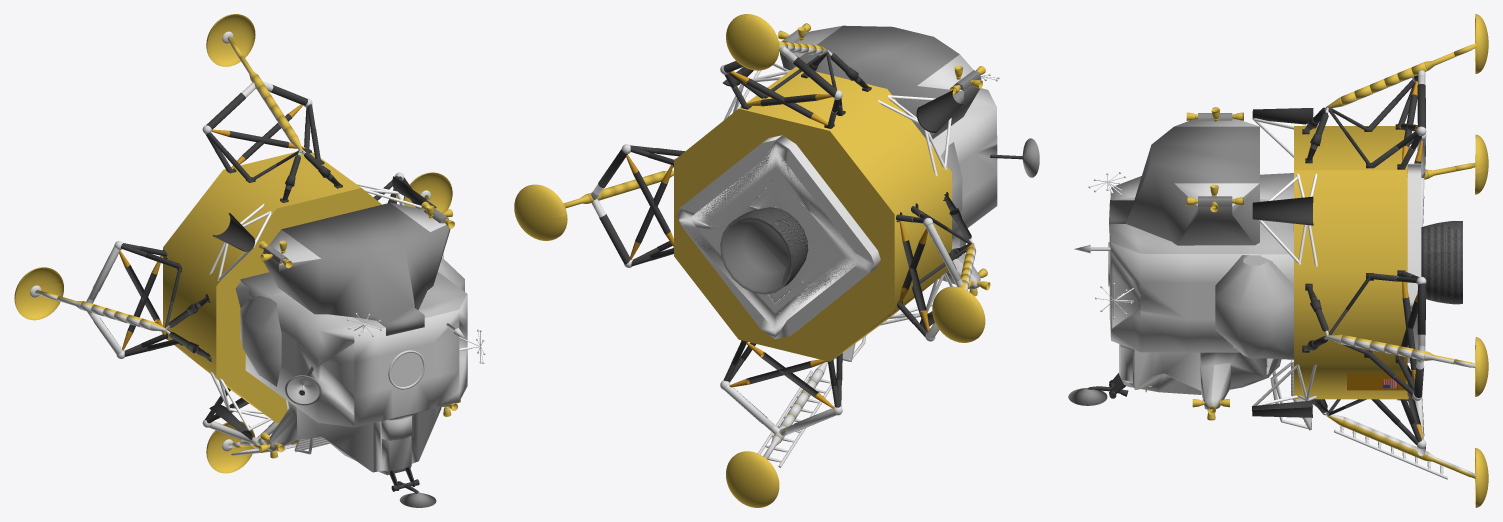
Rendered from lander.glb.
3 views of the same model, side by side, from view 1: azimuth 30°, elevation 25°; view 2: azimuth 150°, elevation 25°; view 3: azimuth 270°, elevation 25° (orthographic). The views are drawn at different scales.
Parts seen in each view (by area): view 1: pSphere30; view 2: pSphere30; view 3: pSphere30.
Part boxes in pixels (x1,y1,x2,y2): pSphere30: (14,14,485,507); pSphere30: (514,14,1039,507); pSphere30: (1068,14,1488,507).
Bounding box in the file's own units: 6.09 × 6.09 × 4.75.
Materials: 12 (3 with a texture image).
